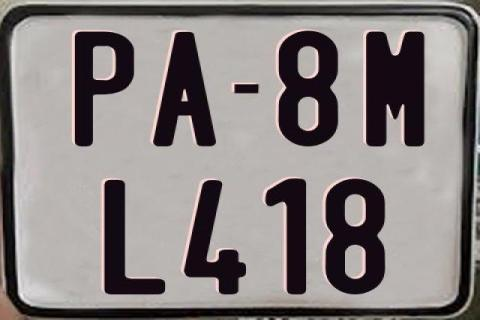0: (183, 180, 251, 298), (325, 179, 387, 299), (278, 28, 338, 149), (264, 177, 306, 297)
A: (151, 30, 218, 148)
L: (102, 179, 169, 297)
M: (364, 31, 426, 147)
P: (72, 29, 133, 145)
